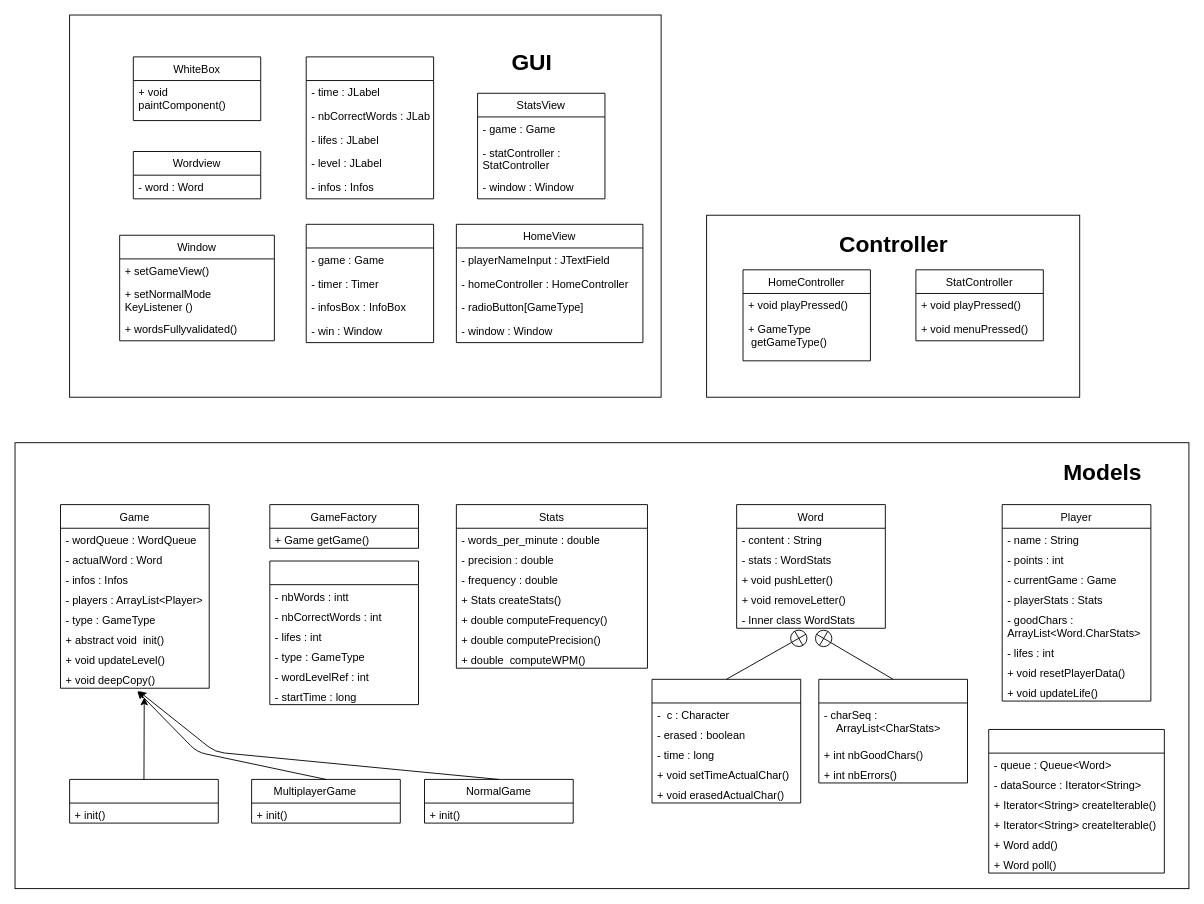
Image size: 1204x904. Some labels were removed from this diagram. The box of each missing label's shape, as (x1, y1, x2, y2) in pixels:
ChallengeGame: (69, 779, 218, 823)
GameView: (305, 223, 434, 343)
Infos: (269, 560, 419, 705)
InfosBox: (305, 56, 434, 199)
Word.CharStats: (651, 678, 801, 803)
Word.WordStats: (818, 678, 968, 783)
WordQueue: (988, 729, 1164, 873)
